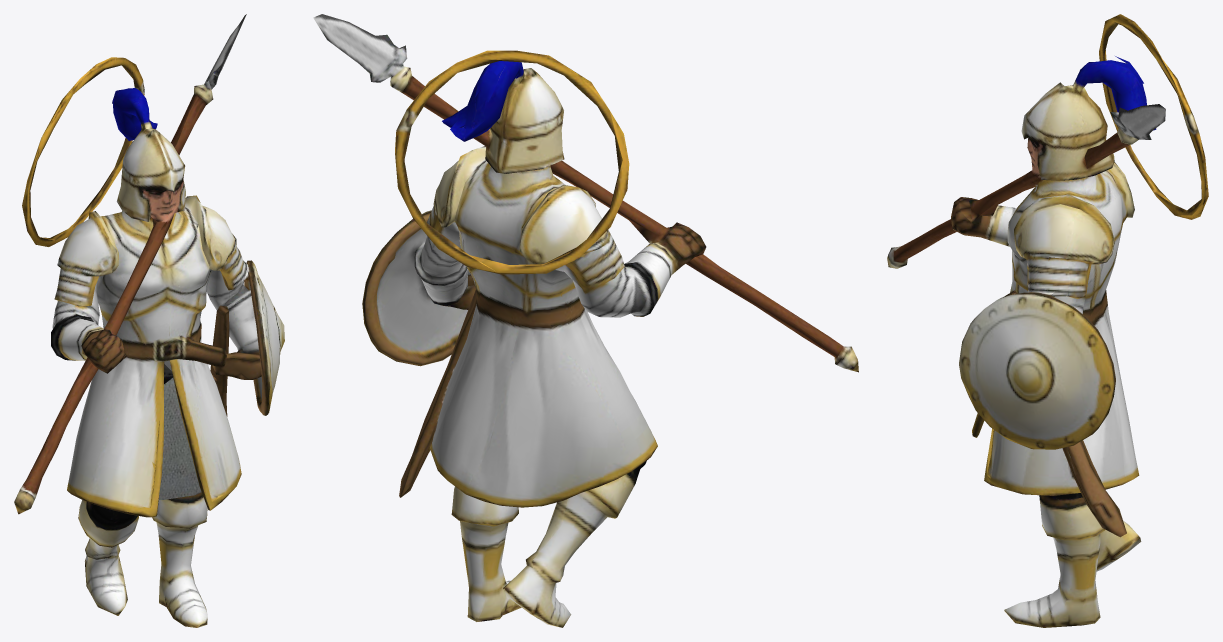
Rendered from spearmen__crown_celestial_host_march.glb.
3 renders of one model, left to right at view 1: azimuth 30°, elevation 25°; view 2: azimuth 150°, elevation 25°; view 3: azimuth 270°, elevation 25°, orthographic. The views are drawn at different scales.
Parts seen in each view (by area): view 1: world; view 2: world; view 3: world.
Boxes of the visible parts, x1,y1,x2,y2 form: world: (14,14,284,627); world: (313,14,858,627); world: (887,14,1208,627).
Bounding box in the file's own units: 0.6901 × 0.9899 × 0.5019.
1 material, 1 textured.
